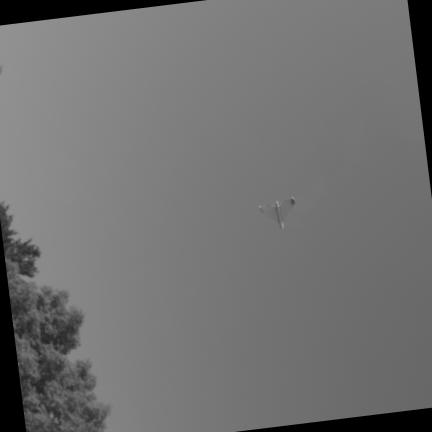Shahed: (257, 196, 294, 230)
